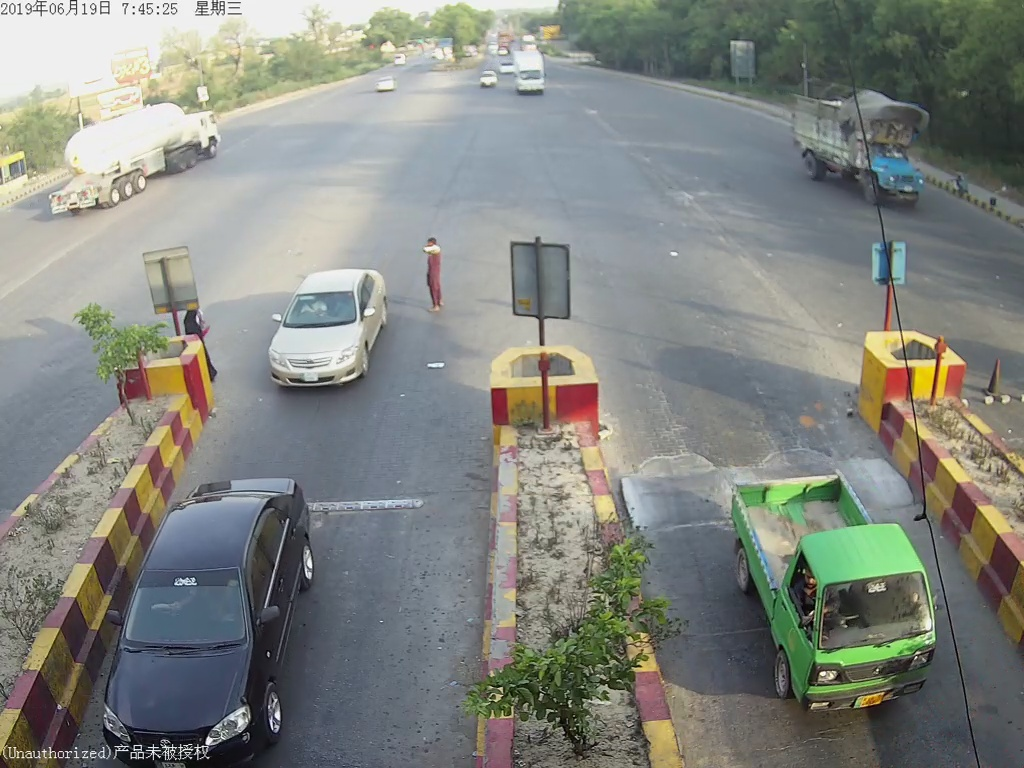Cat-1: (109, 486, 312, 747), (728, 475, 933, 707), (273, 263, 384, 386)
